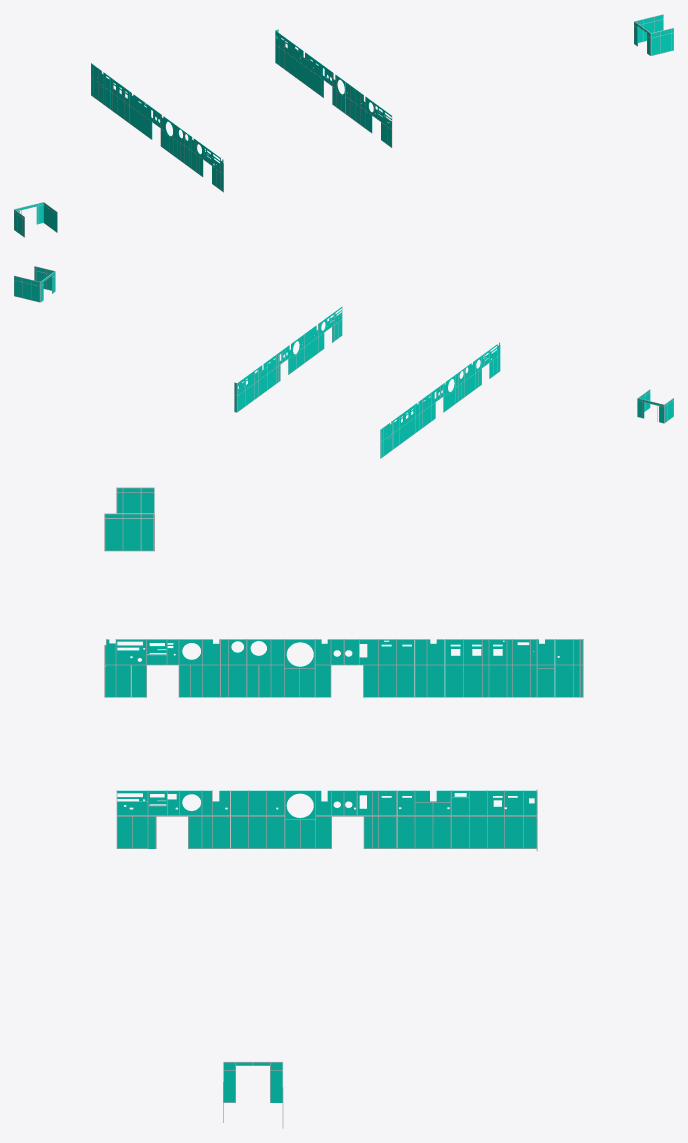
File: detail-cleanroomwalls-1-gf.glb
The picture shows the model from 3 angles, top to bottom: view 1: azimuth 30°, elevation 25°; view 2: azimuth 150°, elevation 25°; view 3: azimuth 270°, elevation 25°; orthographic projection. The views are drawn at different scales.
Size of the model in its own units: 94.61 by 4.35 by 31.75.
